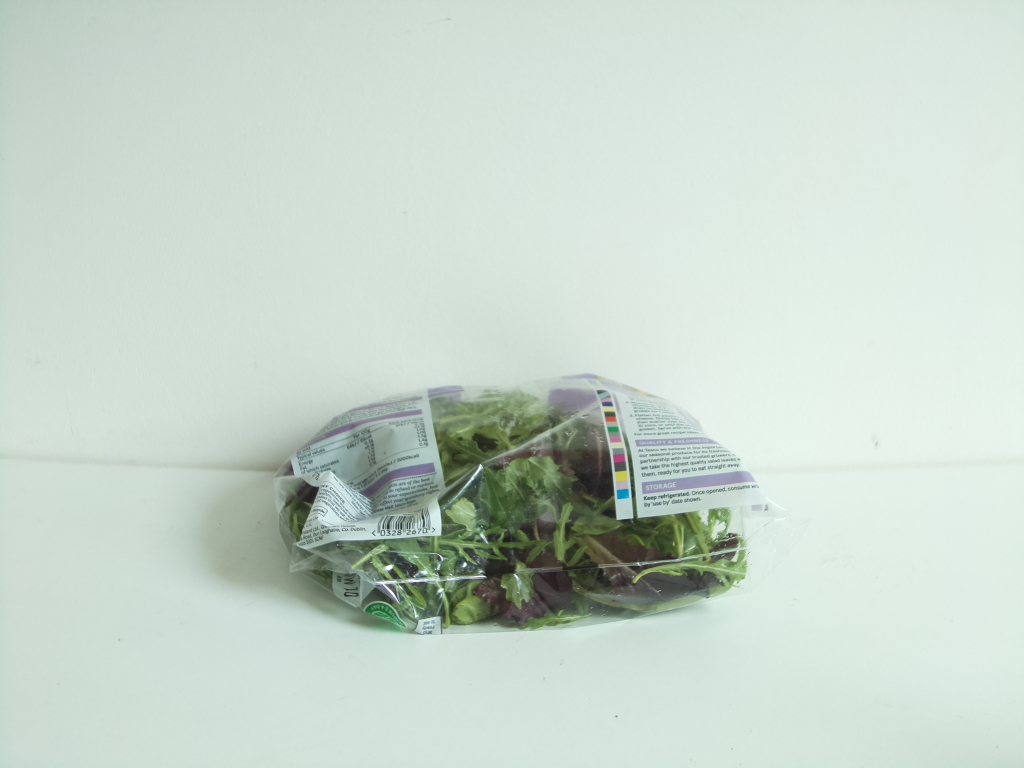salad: (277, 377, 791, 633)
